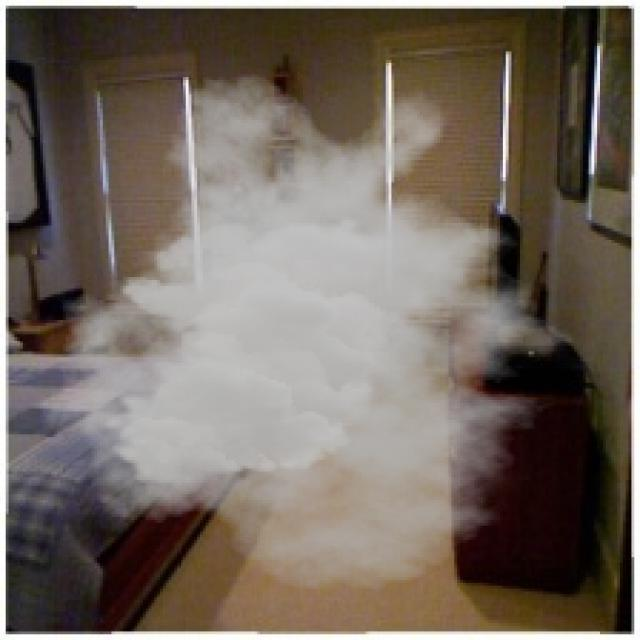Smoke: (40, 71, 600, 592)
